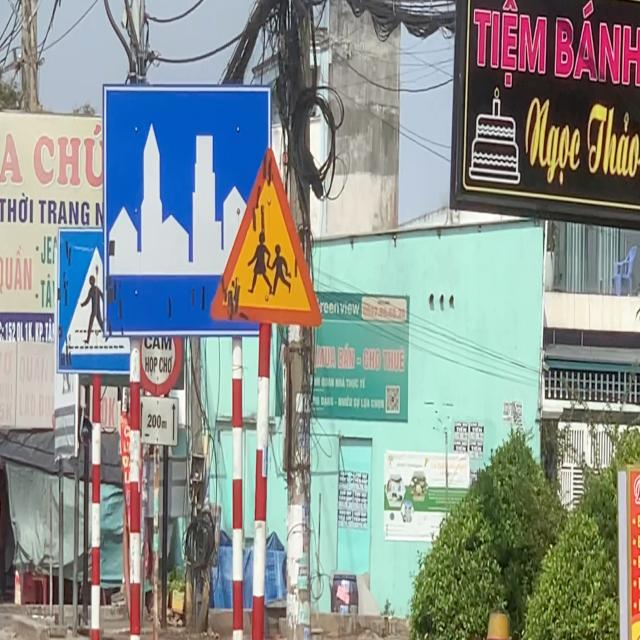Nguy hiem: (206, 140, 327, 334)
